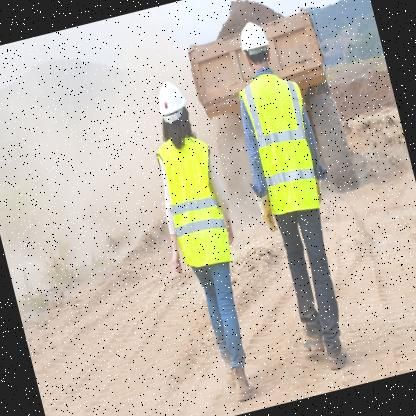capacete: (150, 76, 194, 142), (234, 15, 277, 76)
colete_refletivo: (229, 64, 332, 222), (142, 127, 246, 279)
